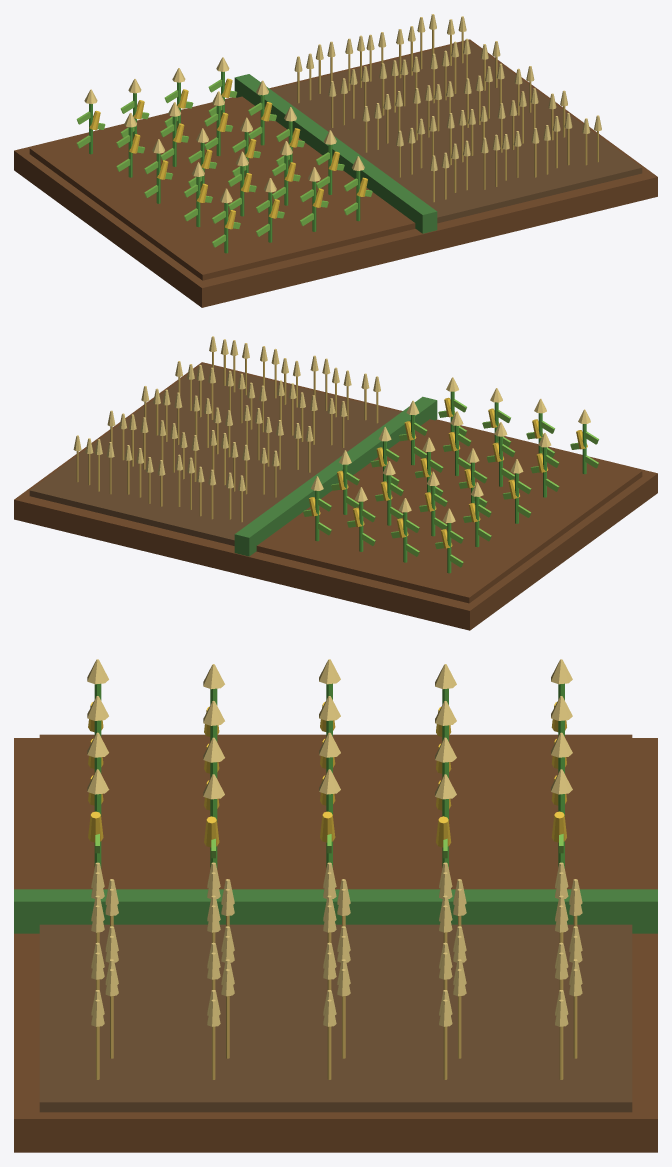
Rendered from grain_corn_field.glb.
3 renders of one model, top to bottom at view 1: azimuth 30°, elevation 25°; view 2: azimuth 150°, elevation 25°; view 3: azimuth 270°, elevation 25°, orthographic. The views are drawn at different scales.
Visible parts, largest first — view 1: CornPlot, WheatPlot, TerrainBase, FieldDivider; view 2: CornPlot, WheatPlot, TerrainBase, FieldDivider; view 3: WheatPlot, CornPlot, TerrainBase, FieldDivider.
Part boxes in pixels (x1,y1,x2,y2): CornPlot: (29,96,415,280); WheatPlot: (271,41,642,223); TerrainBase: (14,39,657,307); FieldDivider: (234,74,437,233); CornPlot: (256,419,642,603); WheatPlot: (29,364,400,545); TerrainBase: (14,362,657,630); FieldDivider: (234,396,437,556); WheatPlot: (39,924,632,1112); CornPlot: (39,734,632,889); TerrainBase: (14,738,657,1152); FieldDivider: (14,889,657,933).
Size of the model in its own units: 14 by 2.62 by 10.
